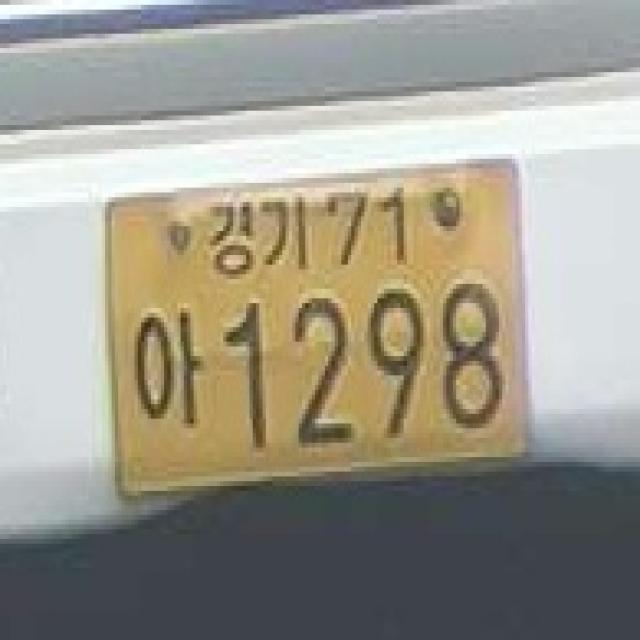plat: (104, 156, 528, 497)
